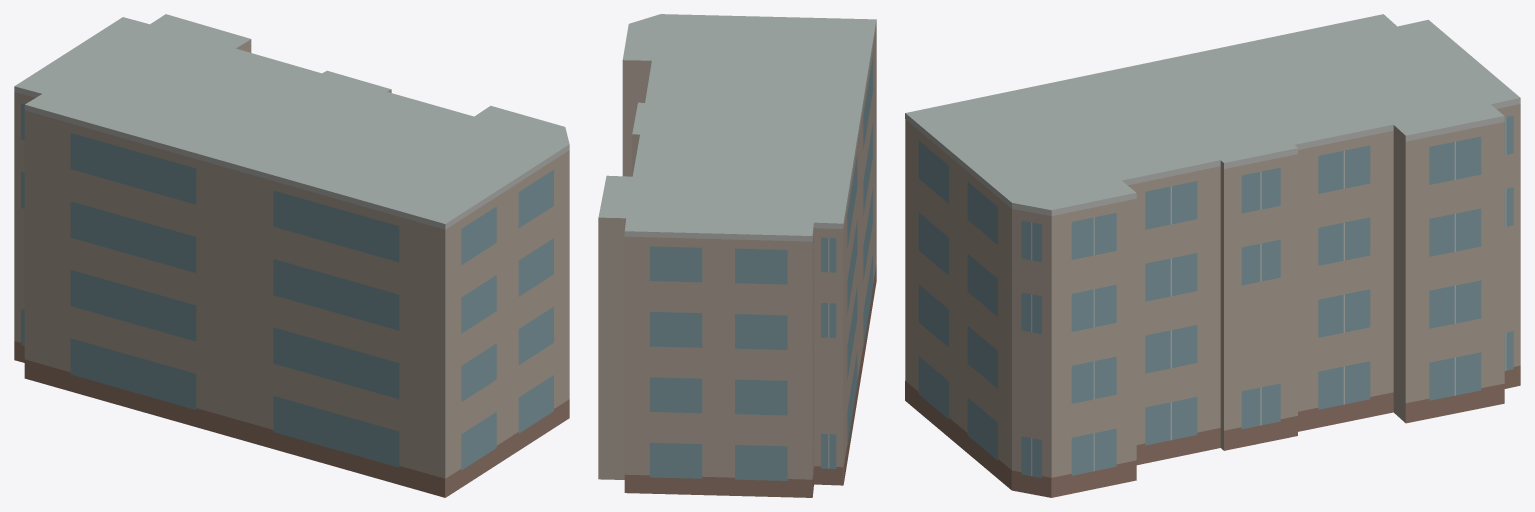
Rendered from survey-upis-32837261.glb.
3 views of the same model, side by side, from view 1: azimuth 30°, elevation 25°; view 2: azimuth 150°, elevation 25°; view 3: azimuth 270°, elevation 25° (orthographic). The views are drawn at different scales.
Visible parts, largest first — view 1: survey-upis-32837261.tmp; view 2: survey-upis-32837261.tmp; view 3: survey-upis-32837261.tmp.
Part boxes in pixels (x1,y1,x2,y2): survey-upis-32837261.tmp: (14,14,569,497); survey-upis-32837261.tmp: (598,14,876,497); survey-upis-32837261.tmp: (905,14,1520,497).
Size of the model in its own units: 17.19 by 11.75 by 22.79.
